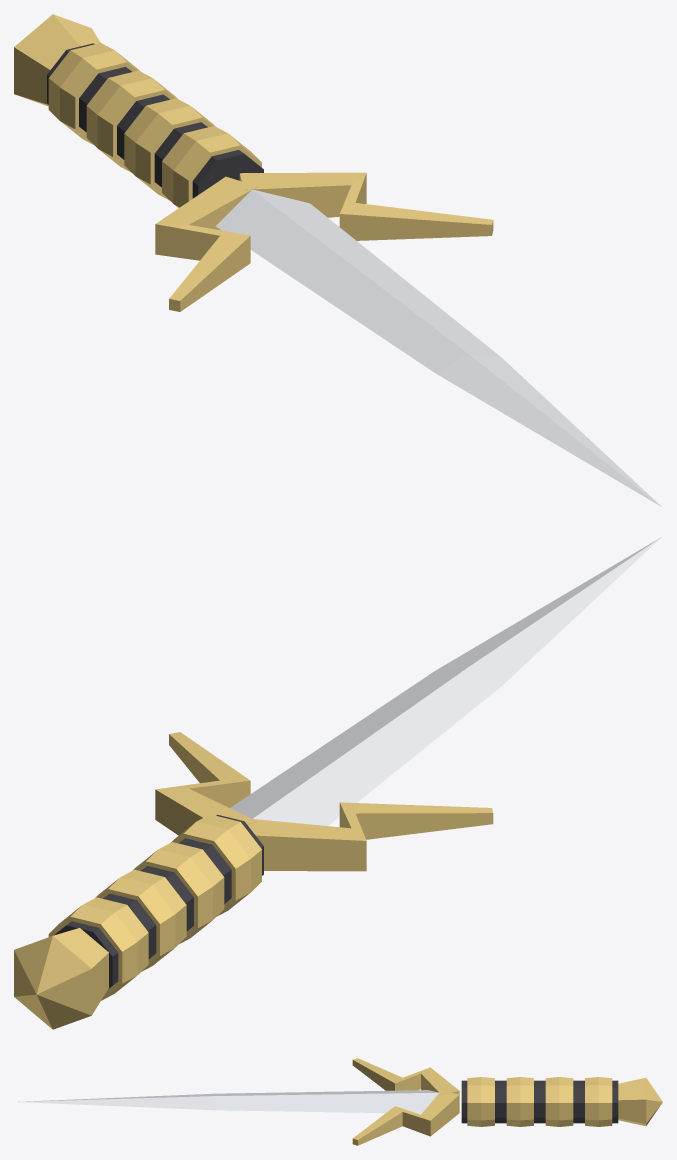
File: stormneedle.glb
The picture shows the model from 3 angles, top to bottom: view 1: azimuth 30°, elevation 25°; view 2: azimuth 150°, elevation 25°; view 3: azimuth 270°, elevation 25°; orthographic projection. The views are drawn at different scales.
Visible parts, largest first — view 1: stormneedle; view 2: stormneedle; view 3: stormneedle.
Boxes of the visible parts, x1,y1,x2,y2 form: stormneedle: [14, 14, 661, 506]; stormneedle: [14, 537, 661, 1029]; stormneedle: [18, 1058, 662, 1145].
Bounding box in the file's own units: 0.1733 × 0.048 × 0.58.
